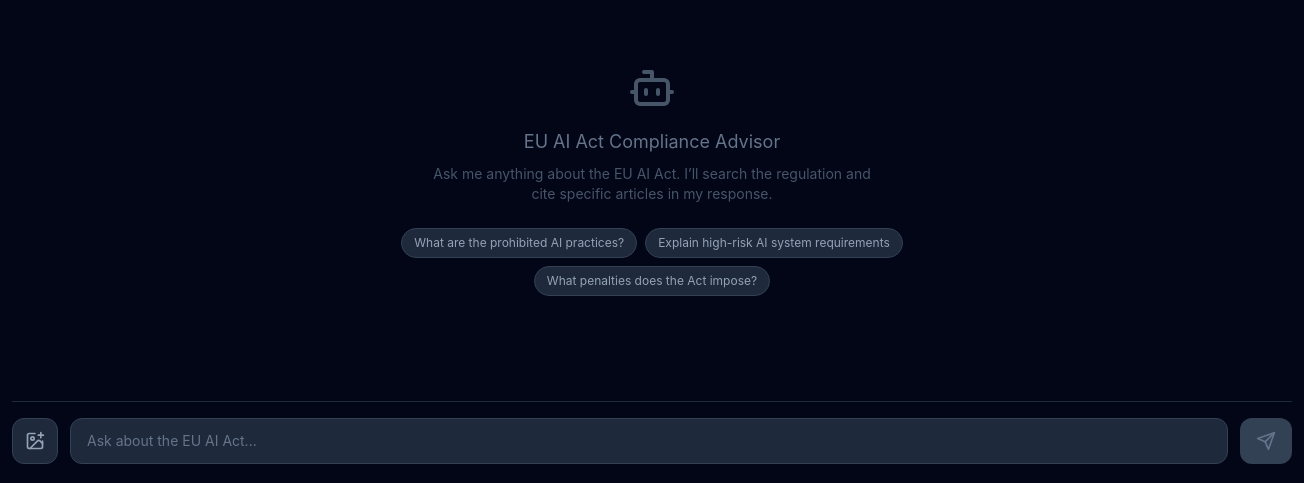
Test: AgentChat › message sending › sends message and shows user bubble
Type "What is Article 5?" into the field with placeholder "Ask about the EU AI Act..." at [649, 441], box [70, 418, 1228, 464]
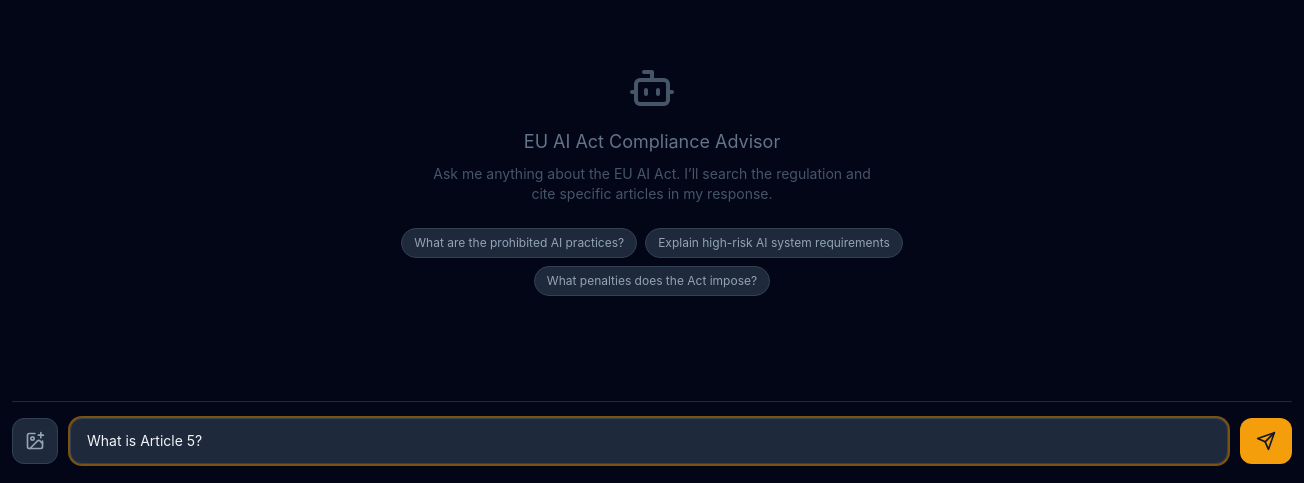
Click the 5th button at [1266, 441], box [1240, 418, 1292, 464]
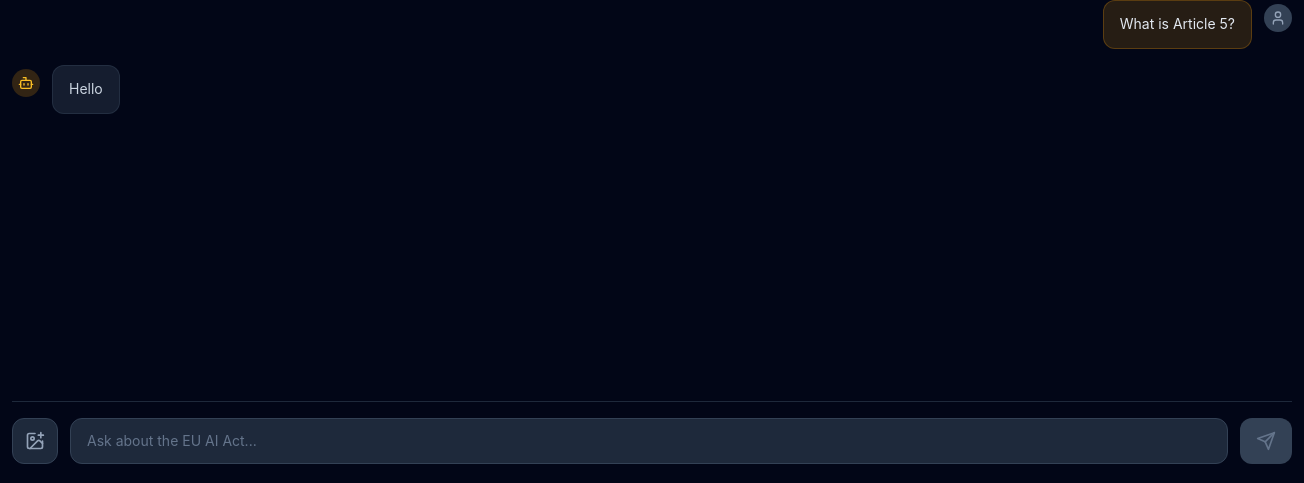
Now the text "What is Article 5?" is shown, box [1120, 13, 1235, 36]
